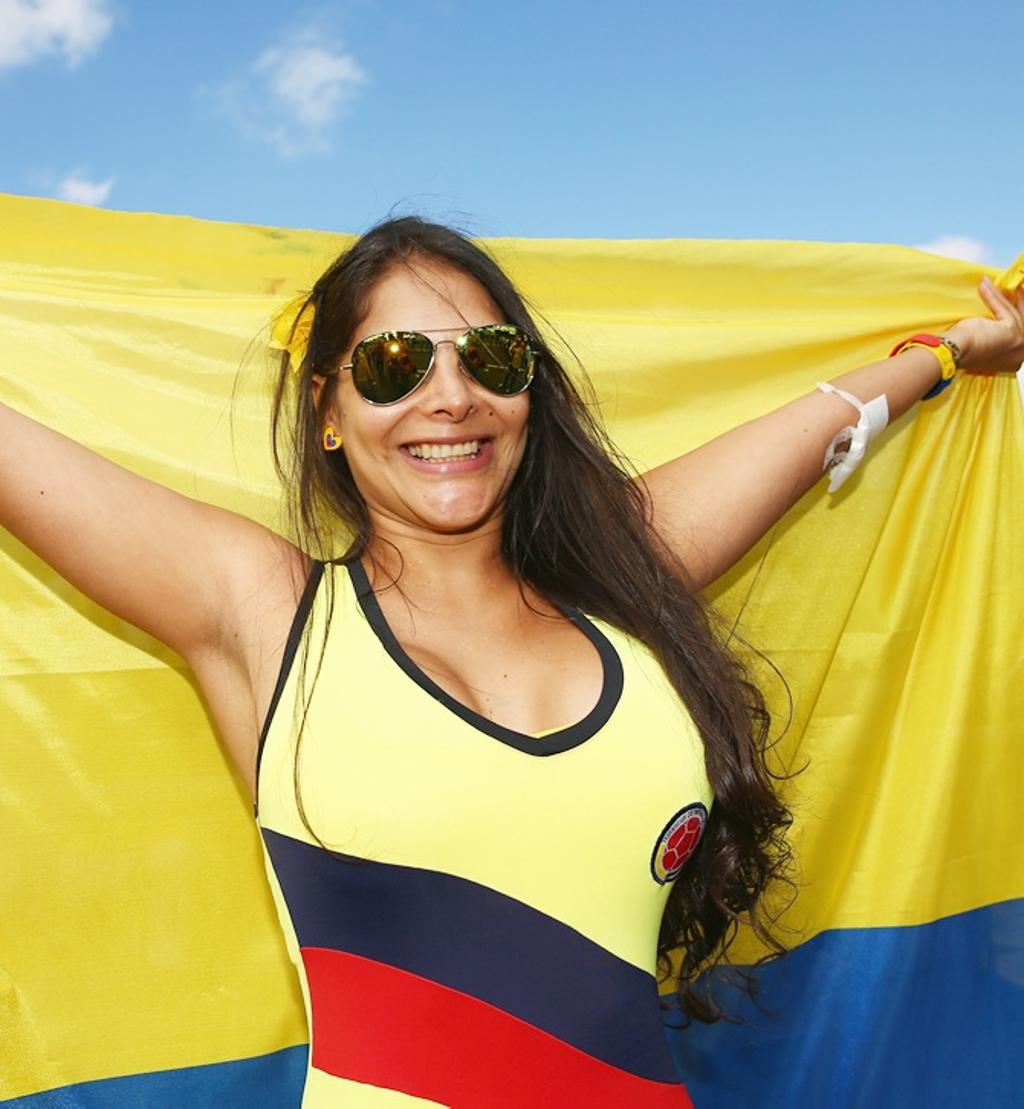face: (338, 297, 531, 533)
